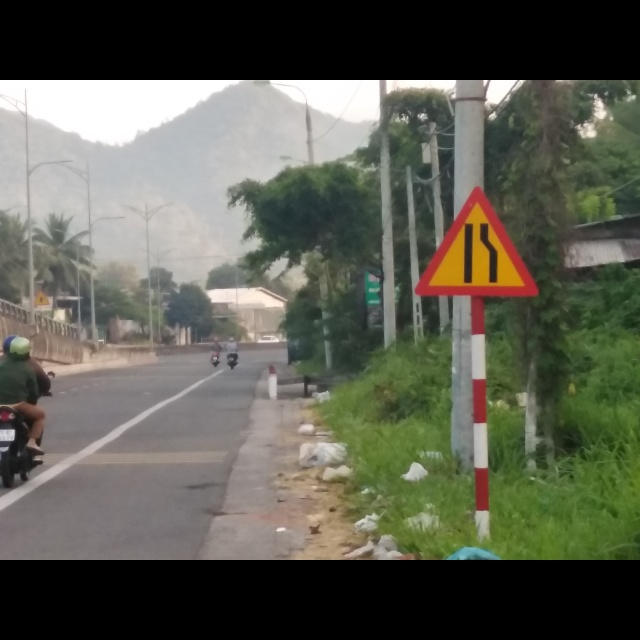Đường bị hẹp bên phải: (412, 183, 539, 297)
